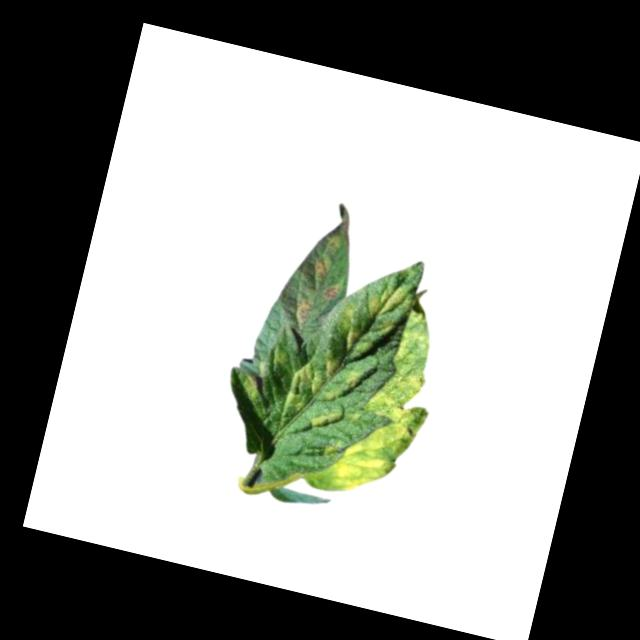Leaf_Mold: (280, 259, 409, 440), (288, 200, 359, 328), (331, 398, 415, 504), (369, 308, 440, 414)
